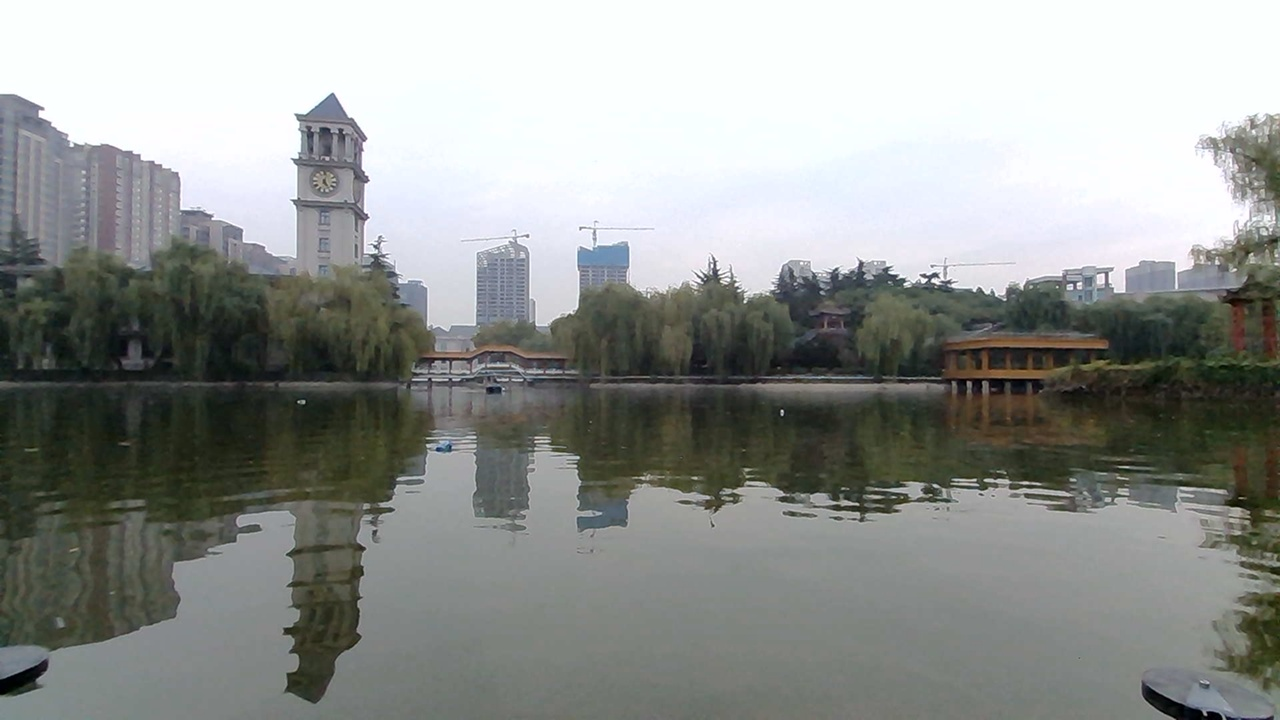bottle: (428, 434, 467, 458), (770, 400, 794, 424), (293, 389, 316, 407)
